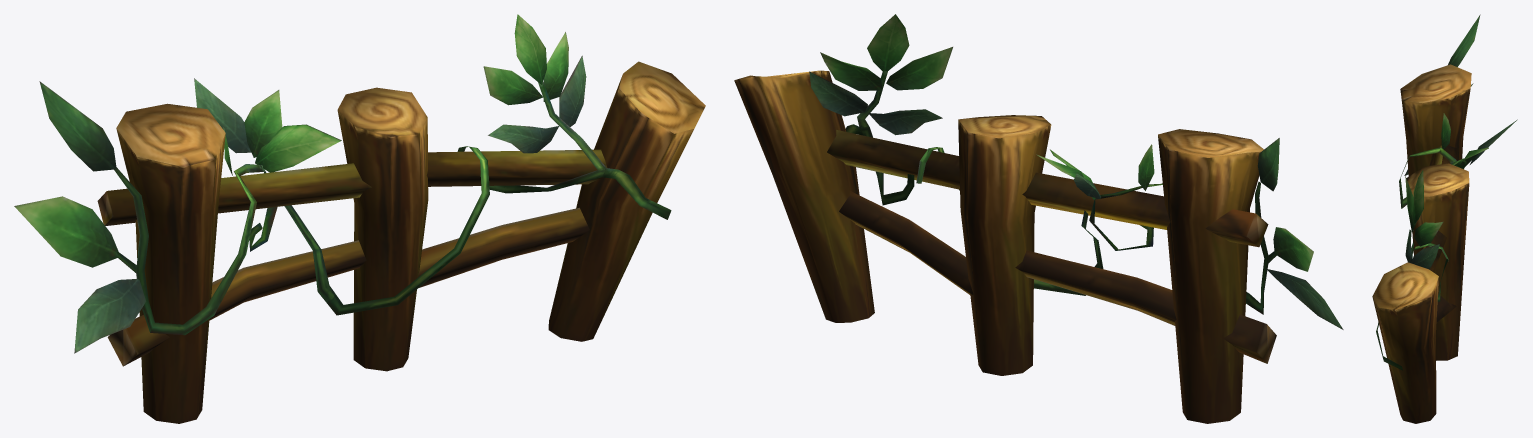
Rendered from Swamp_zhalan04.FBX.
3 views of the same model, side by side, from view 1: azimuth 30°, elevation 25°; view 2: azimuth 150°, elevation 25°; view 3: azimuth 270°, elevation 25° (orthographic). The views are drawn at different scales.
Parts seen in each view (by area): view 1: zhalan04; view 2: zhalan04; view 3: zhalan04.
Boxes of the visible parts, x1=… form: zhalan04: x1=14, y1=14, x2=705, y2=423; zhalan04: x1=734, y1=14, x2=1343, y2=423; zhalan04: x1=1372, y1=14, x2=1517, y2=423.
Size of the model in its own units: 136 by 69.21 by 38.71.
